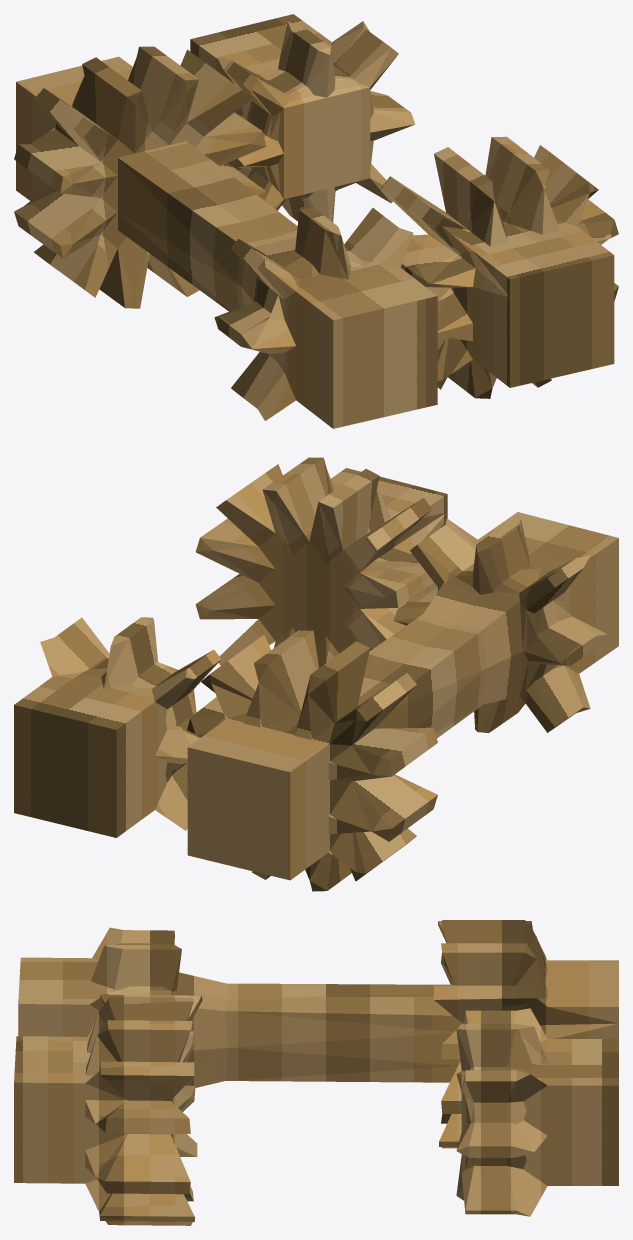
The model's file is gearbox_2_inside.obj.
3 views of the same model, one above another, from view 1: azimuth 30°, elevation 25°; view 2: azimuth 150°, elevation 25°; view 3: azimuth 270°, elevation 25° (orthographic). The views are drawn at different scales.
Parts seen in each view (by area): view 1: connection, big_output, small_output; view 2: connection, big_output, small_output; view 3: connection, big_output, small_output.
Boxes of the visible parts, x1,y1,x2,y2 form: connection: [14, 46, 437, 428]; big_output: [380, 136, 618, 398]; small_output: [190, 14, 415, 222]; connection: [187, 512, 618, 891]; big_output: [195, 457, 447, 667]; small_output: [14, 617, 221, 837]; connection: [18, 920, 618, 1148]; big_output: [14, 994, 202, 1225]; small_output: [456, 1008, 618, 1216].
Size of the model in its own units: 0.6718 by 0.368 by 1.01.
